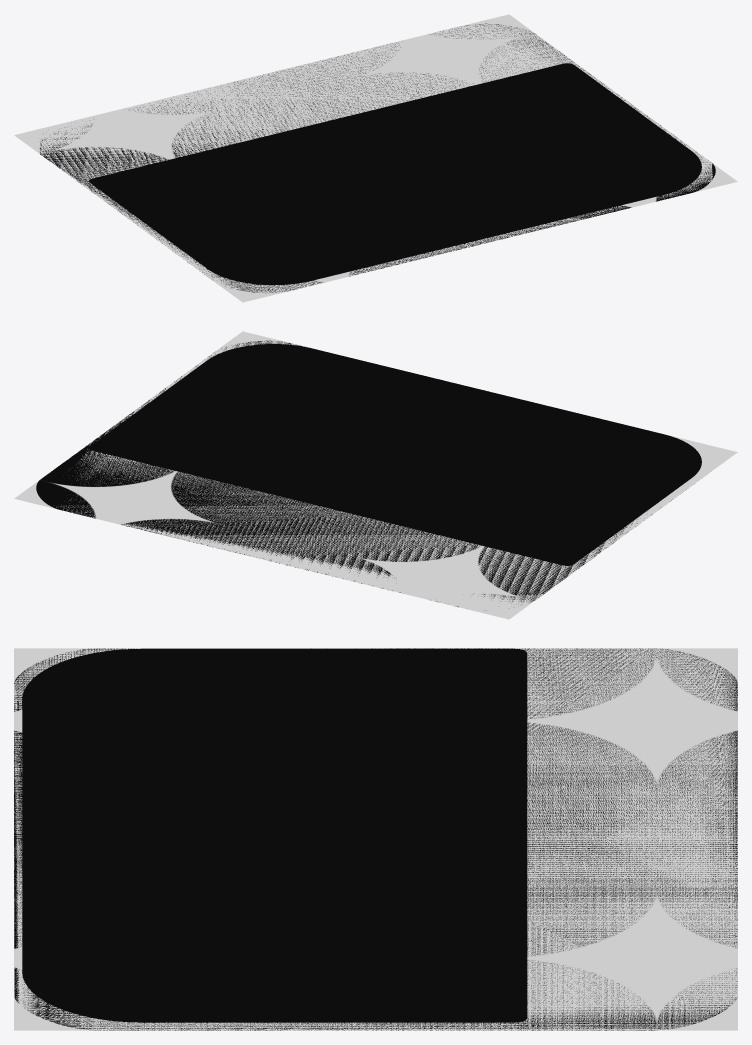
Rendered from preview-plane.glb.
3 renders of one model, top to bottom at view 1: azimuth 30°, elevation 25°; view 2: azimuth 150°, elevation 25°; view 3: azimuth 270°, elevation 25°, orthographic. The views are drawn at different scales.
Parts seen in each view (by area): view 1: Plane.002, Plane.001, Plane; view 2: Plane.002, Plane.001, Plane; view 3: Plane.002, Plane.001, Plane.
Boxes of the visible parts, bbox=[...] form: Plane.002: bbox=[89, 63, 701, 285]; Plane.001: bbox=[14, 14, 737, 302]; Plane: bbox=[39, 23, 715, 293]; Plane.002: bbox=[89, 344, 701, 565]; Plane.001: bbox=[14, 331, 737, 619]; Plane: bbox=[36, 340, 686, 610]; Plane.002: bbox=[22, 648, 527, 1022]; Plane.001: bbox=[14, 648, 737, 1030]; Plane: bbox=[14, 648, 737, 1030].
Size of the model in its own units: 2.5 by 0.0116 by 2.
3 materials, 1 textured.
